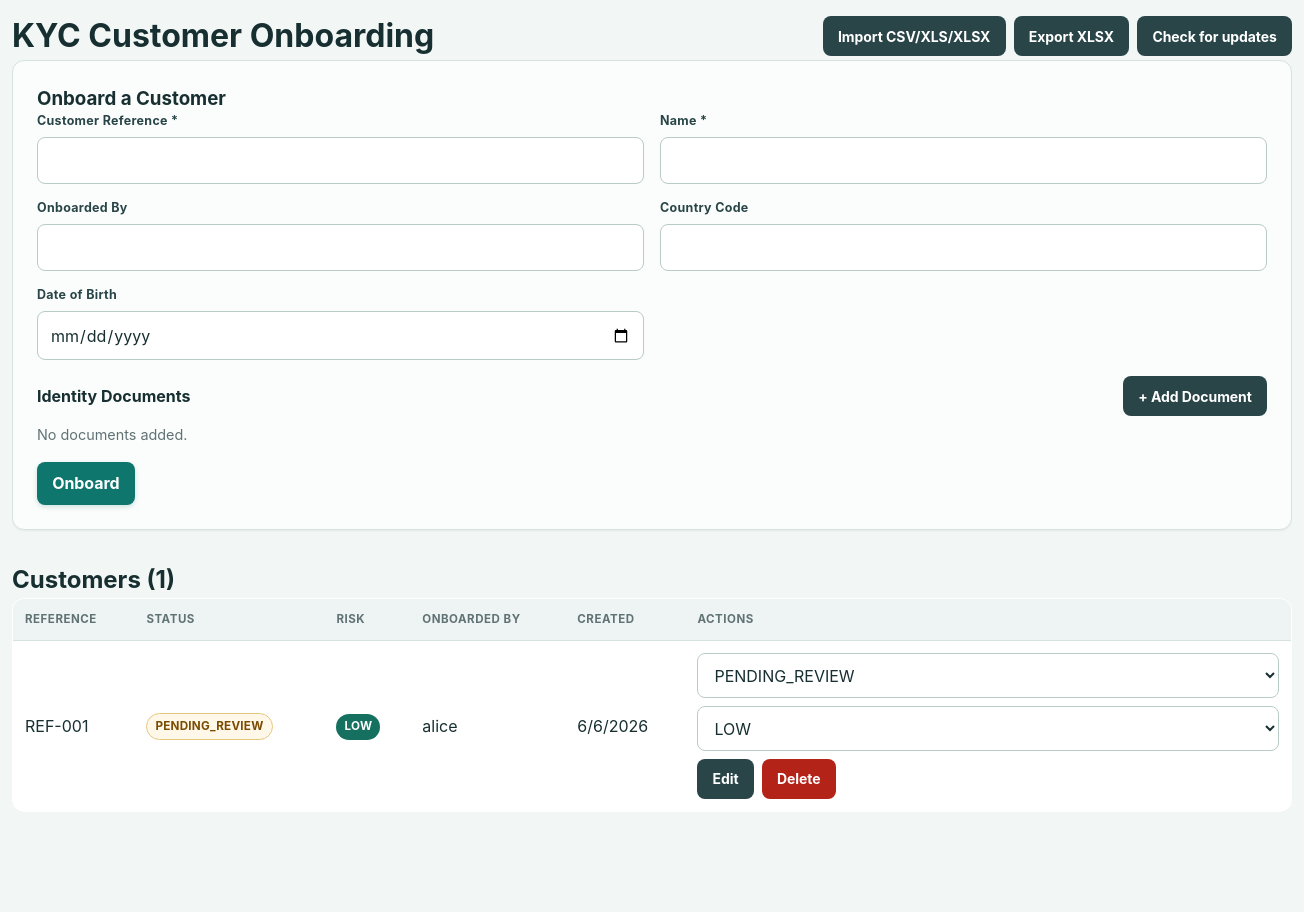
Test: CustomersPage › action error surfaces › surfaces a status-change failure
expect the text "REF-001" is shown: met, box [12,641,134,812]
Select "ACTIVE" in the dropdown named "status for REF-001" at (988, 676), box [697,653,1279,698]
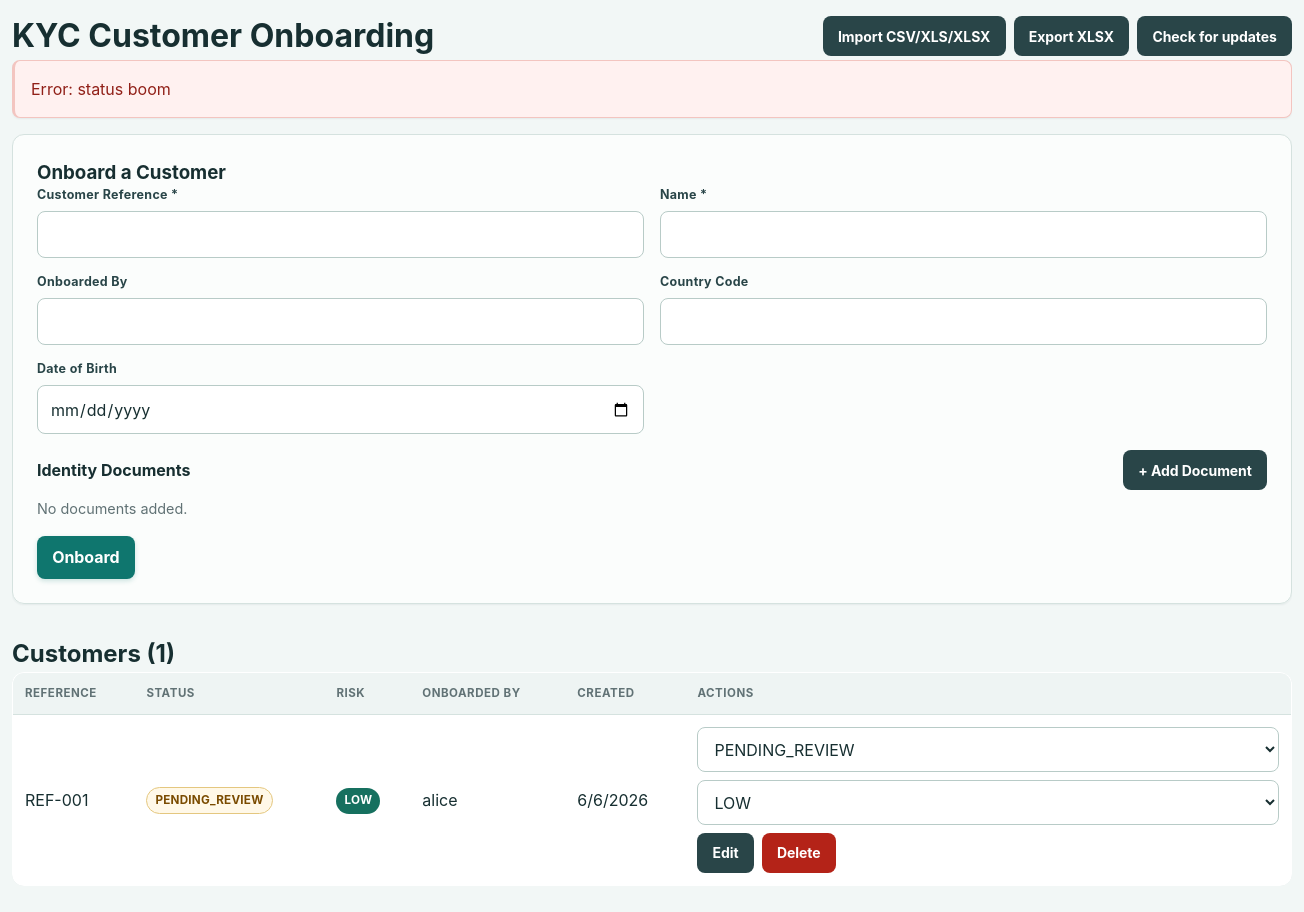
expect the text "Error: status boom" is shown: met, box [12,60,1292,118]
